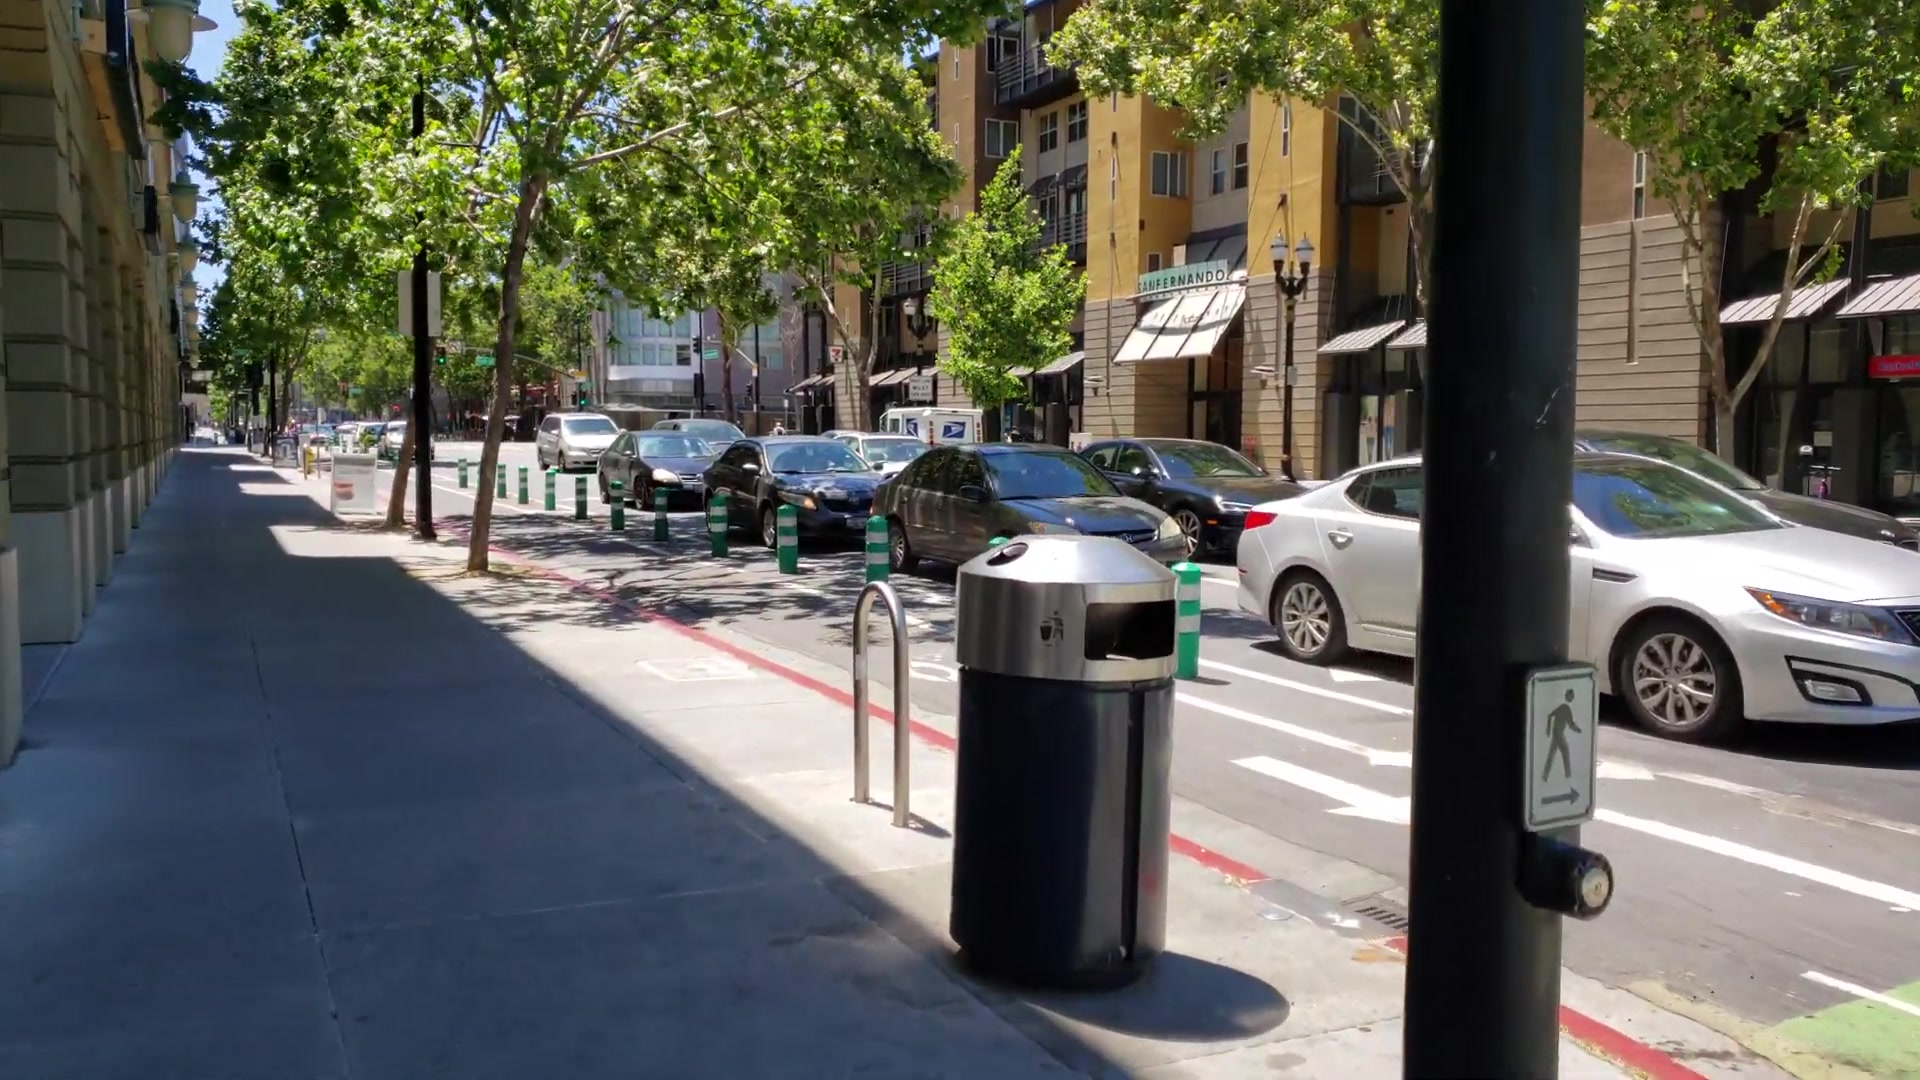vehicle: (1236, 451, 1917, 740), (707, 439, 881, 539), (597, 430, 723, 514), (537, 414, 622, 465)
